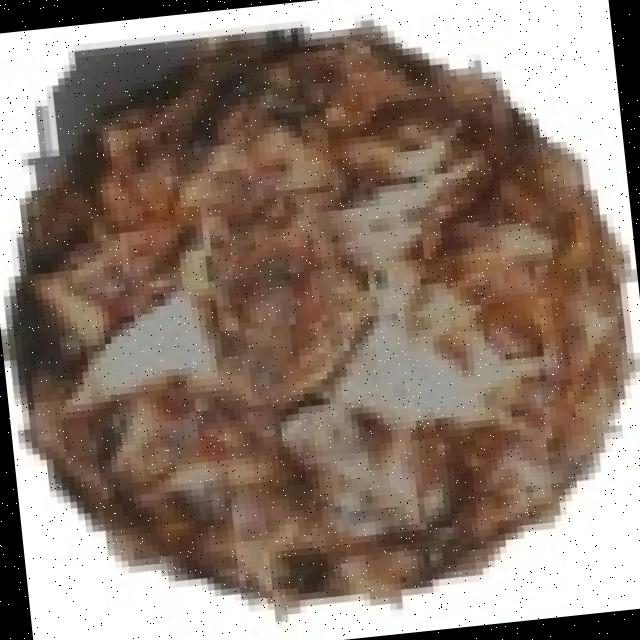pineapple: (24, 43, 640, 619)
